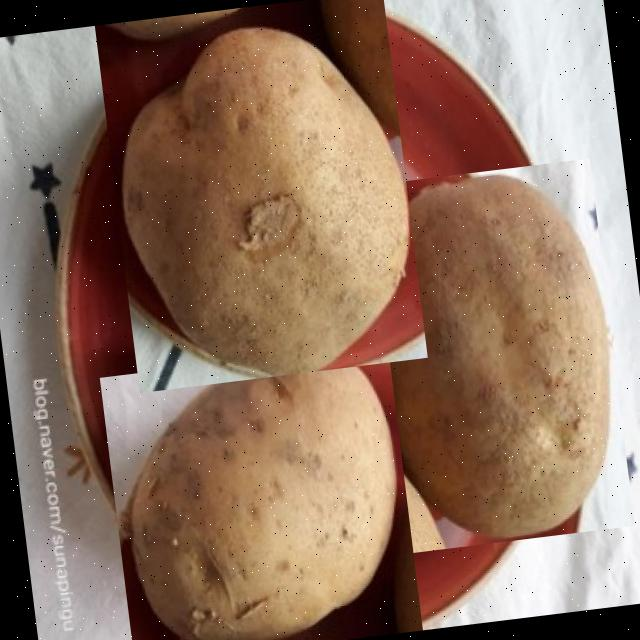Potato: (93, 0, 426, 393), (342, 158, 633, 556), (98, 342, 421, 640)
